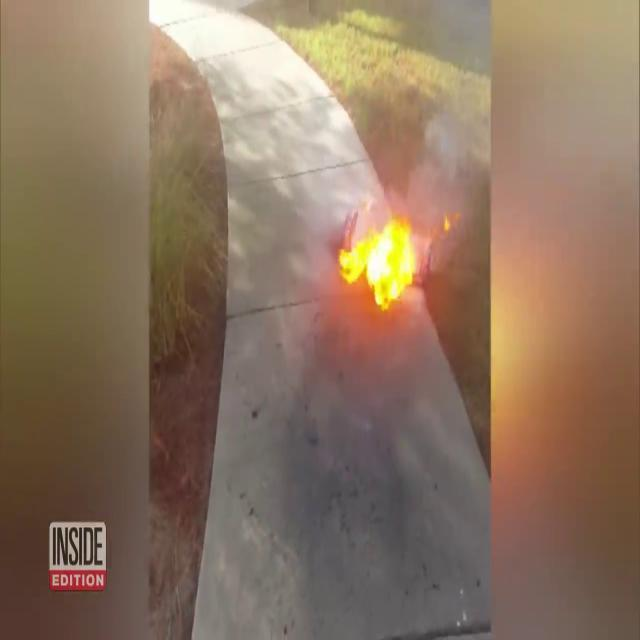Fire: (338, 211, 421, 309)
